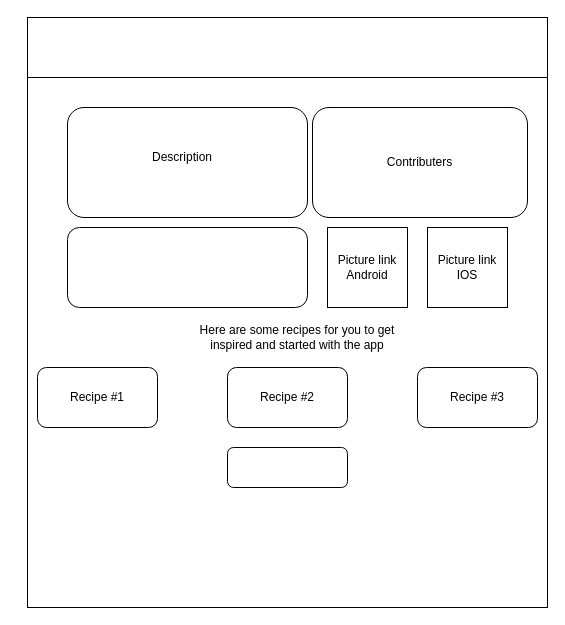
Image size: 565x625. Some labels were removed from this diagram. Here are the shapes that lost their labels. From the top down, the centre of each, then its label:
(x=287, y=47): navbar
(x=187, y=267): We're available both on Android and IOS!
(x=287, y=467): pls load me moare!
